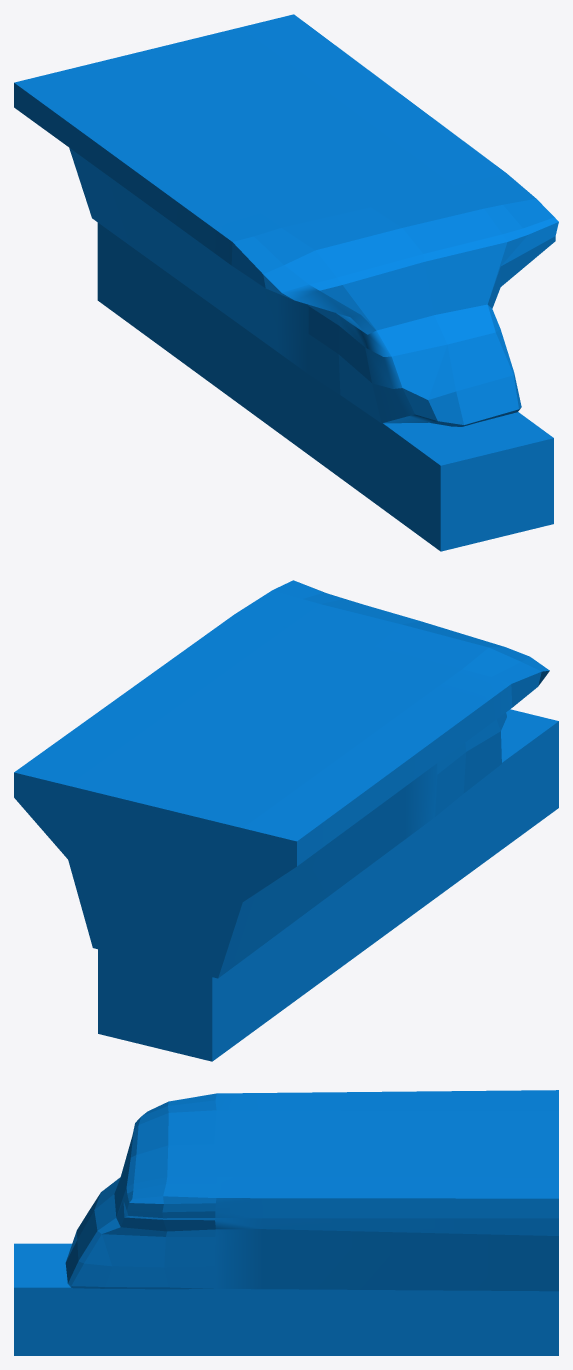
File: Pillar_Up_02_Lod0.fbx
The picture shows the model from 3 angles, top to bottom: view 1: azimuth 30°, elevation 25°; view 2: azimuth 150°, elevation 25°; view 3: azimuth 270°, elevation 25°; orthographic projection. The views are drawn at different scales.
Parts seen in each view (by area): view 1: Pillar_Up_02_Lod0; view 2: Pillar_Up_02_Lod0; view 3: Pillar_Up_02_Lod0.
Part boxes in pixels (x1=…): Pillar_Up_02_Lod0: x1=14, y1=14, x2=558, y2=551; Pillar_Up_02_Lod0: x1=14, y1=580, x2=558, y2=1061; Pillar_Up_02_Lod0: x1=14, y1=1090, x2=558, y2=1355.
Size of the model in its own units: 724 by 589 by 1536.
